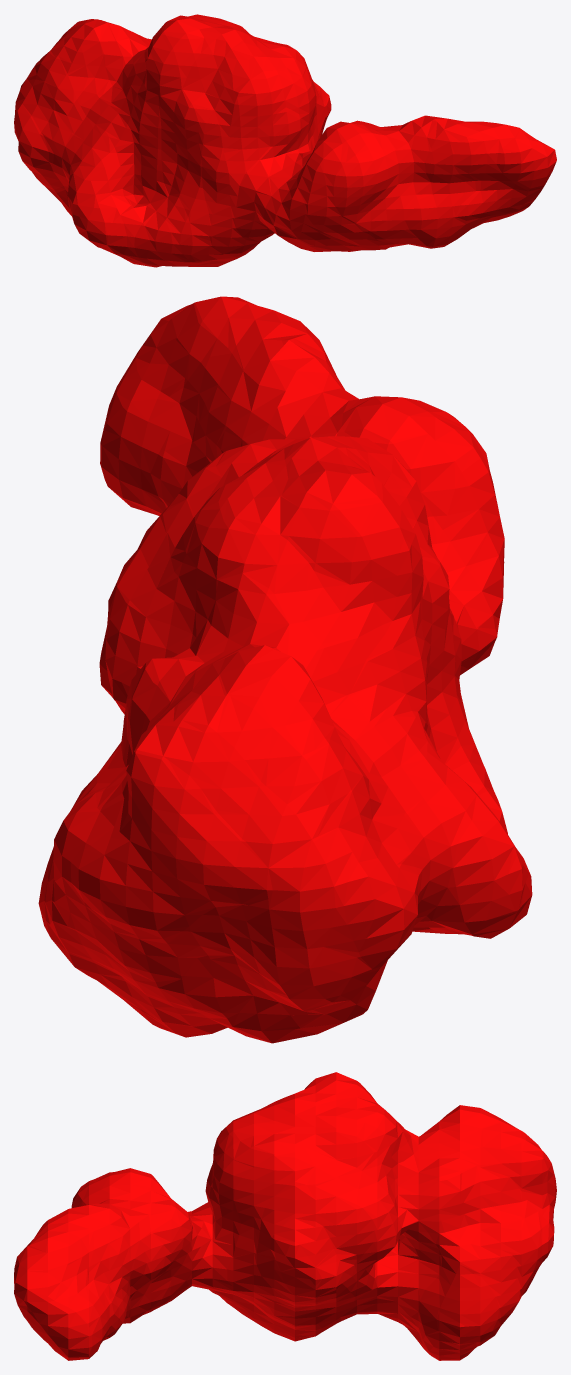
File: hemA_coarse.dae
3 views of the same model, one above another, from view 1: azimuth 30°, elevation 25°; view 2: azimuth 150°, elevation 25°; view 3: azimuth 270°, elevation 25° (orthographic). The views are drawn at different scales.
Parts seen in each view (by area): view 1: hemA; view 2: hemA; view 3: hemA.
Part boxes in pixels (bbox=[...]): hemA: bbox=[14, 14, 556, 267]; hemA: bbox=[38, 296, 532, 1043]; hemA: bbox=[14, 1072, 556, 1360].
Bounding box in the file's own units: 77.76 × 54.25 × 98.75.
